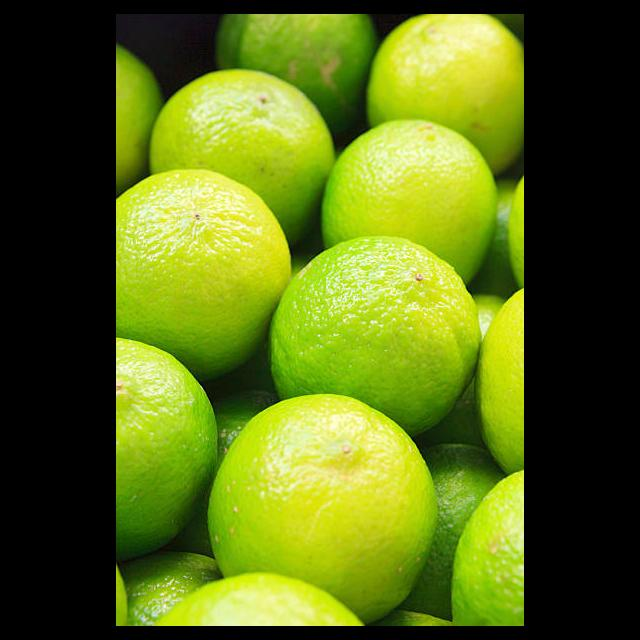lime: (268, 237, 481, 441)
